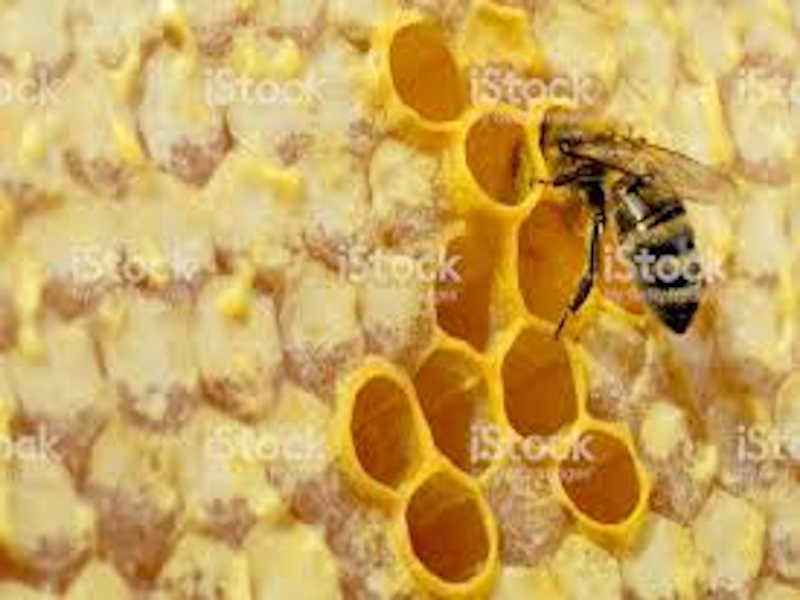abeja: (521, 111, 736, 350)
